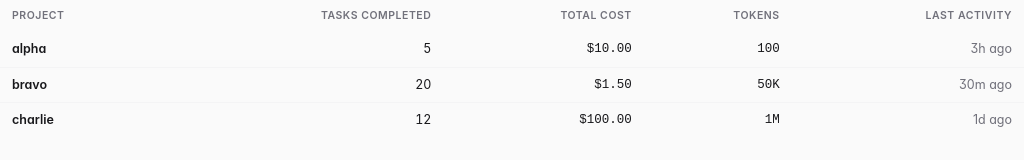
Test: ByProjectTable / sort cycle › third click on the same column resets to off (input order, no sort icon)
Click the button with test id "by-project-table-header-button-project".
click(38, 16)  # box [12, 8, 64, 24]
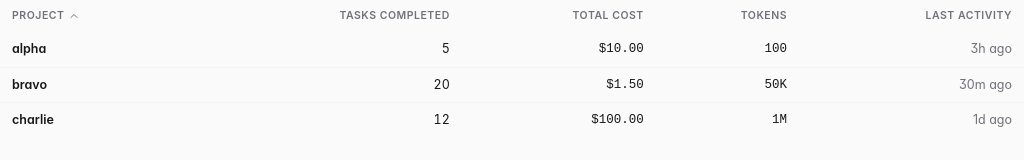
Click the button with test id "by-project-table-header-button-project".
click(46, 16)  # box [12, 8, 80, 24]
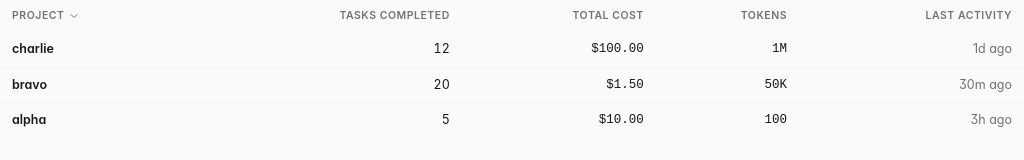
Click the button with test id "by-project-table-header-button-project".
click(46, 16)  # box [12, 8, 80, 24]
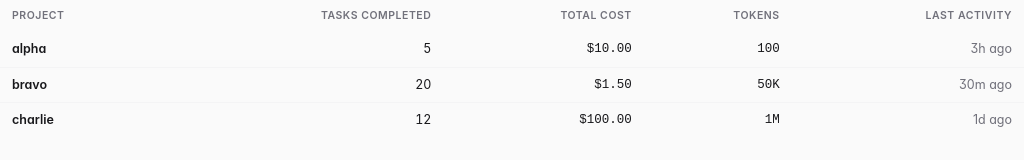
Expected: the elements with test id "by-project-table-name" read "alpha", "bravo", "charlie", in this order, [12, 41, 46, 56]; [12, 76, 47, 92]; [12, 112, 54, 127]
Expected: the icon with test id "by-project-table-sort-icon-project" is gone
